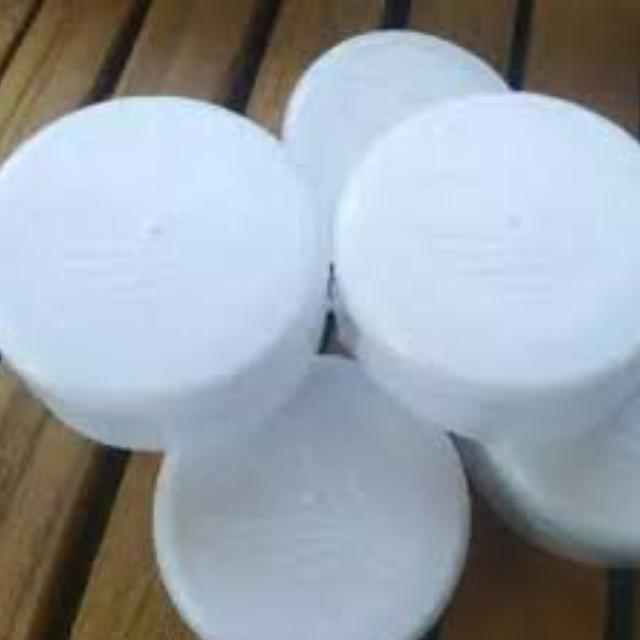TutupGalon: (0, 24, 639, 639)
